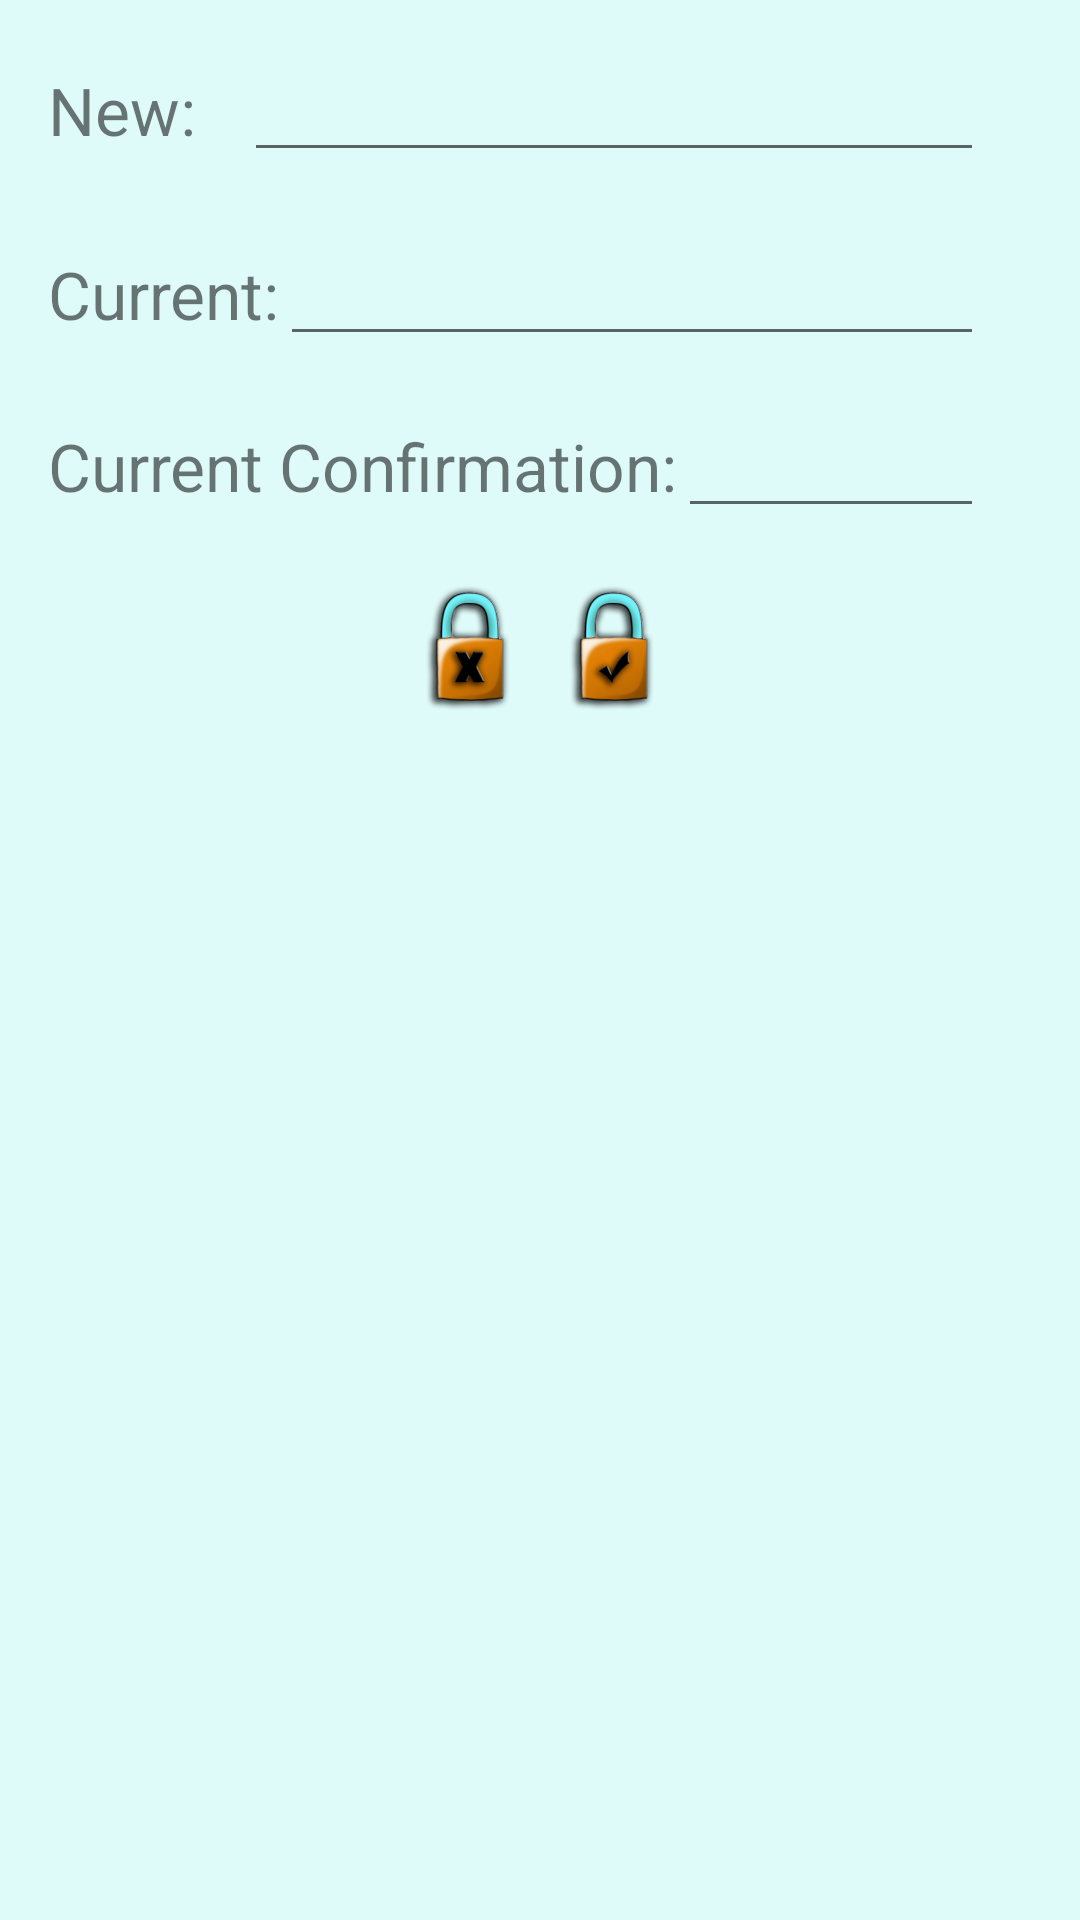

Point at icon controls on the screen. Image size 1080*1920, points as (x=x, y=y).
cadeado cancel: (x=467, y=648)
cadeado ok: (x=611, y=648)
